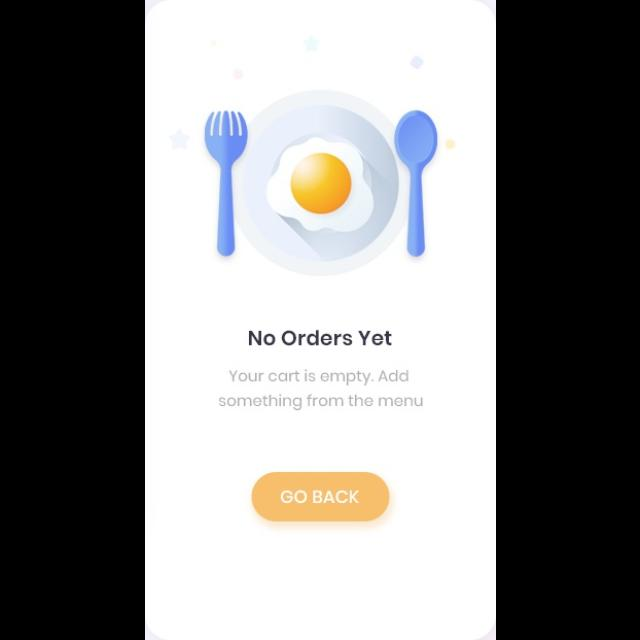image: (169, 37, 455, 277)
text: (218, 369, 424, 411), (248, 330, 392, 346)
textbutton: (251, 472, 389, 522)
